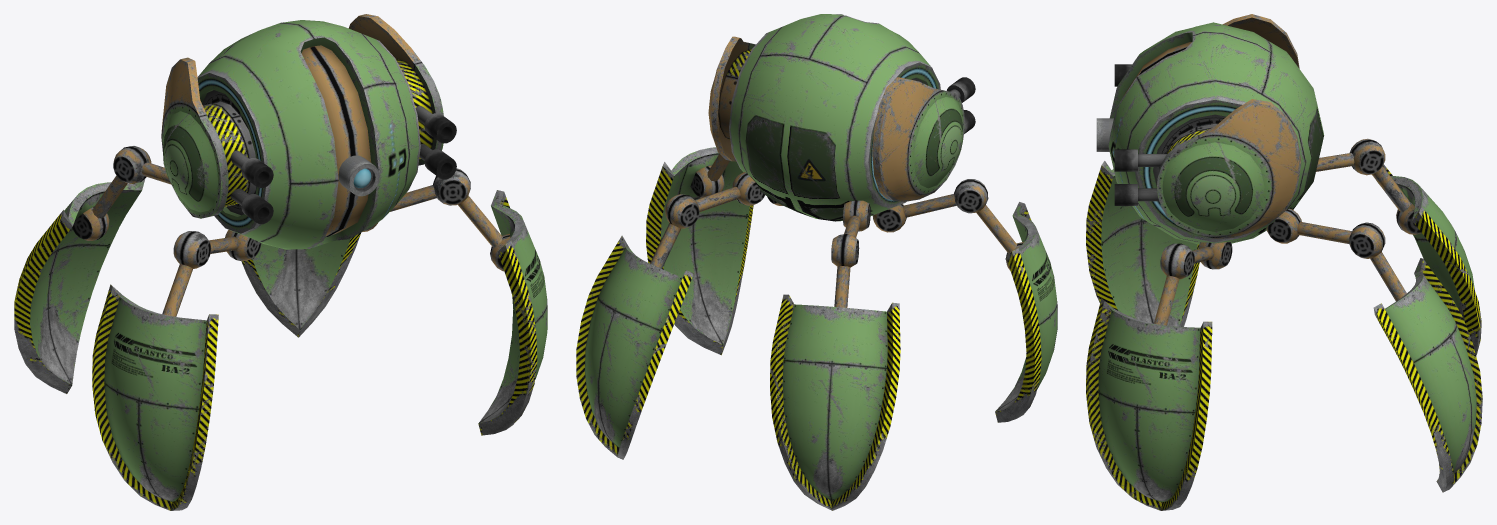
File: BlastBot.fbx
The picture shows the model from 3 angles, left to right: view 1: azimuth 30°, elevation 25°; view 2: azimuth 150°, elevation 25°; view 3: azimuth 270°, elevation 25°; orthographic projection. The views are drawn at different scales.
Parts seen in each view (by area): view 1: Bot.Mesh; view 2: Bot.Mesh; view 3: Bot.Mesh.
Boxes of the visible parts, bbox=[...] form: Bot.Mesh: bbox=[14, 14, 547, 510]; Bot.Mesh: bbox=[576, 14, 1057, 510]; Bot.Mesh: bbox=[1086, 14, 1482, 510].
Bounding box in the file's own units: 398 × 374 × 331.
